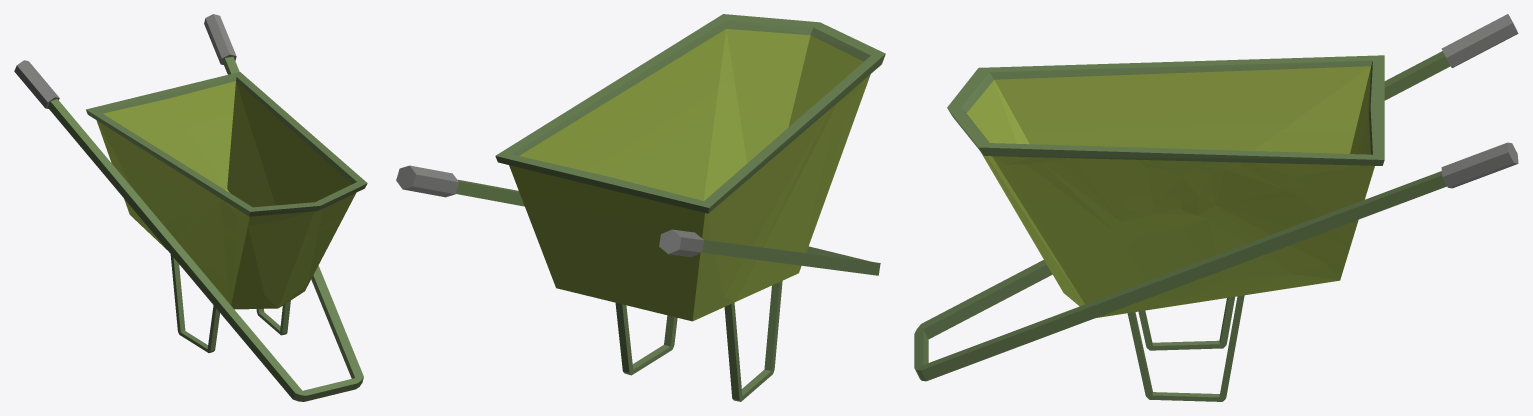
File: Wheelbarrow_04.fbx
The picture shows the model from 3 angles, left to right: view 1: azimuth 30°, elevation 25°; view 2: azimuth 150°, elevation 25°; view 3: azimuth 270°, elevation 25°; orthographic projection. The views are drawn at different scales.
Visible parts, largest first — view 1: Wheelbarrow_04; view 2: Wheelbarrow_04; view 3: Wheelbarrow_04.
Part boxes in pixels (x1,y1,x2,y2): Wheelbarrow_04: (14,14,367,401); Wheelbarrow_04: (396,14,885,401); Wheelbarrow_04: (914,14,1518,401).
Bounding box in the file's own units: 0.8831 × 0.8764 × 1.62.
